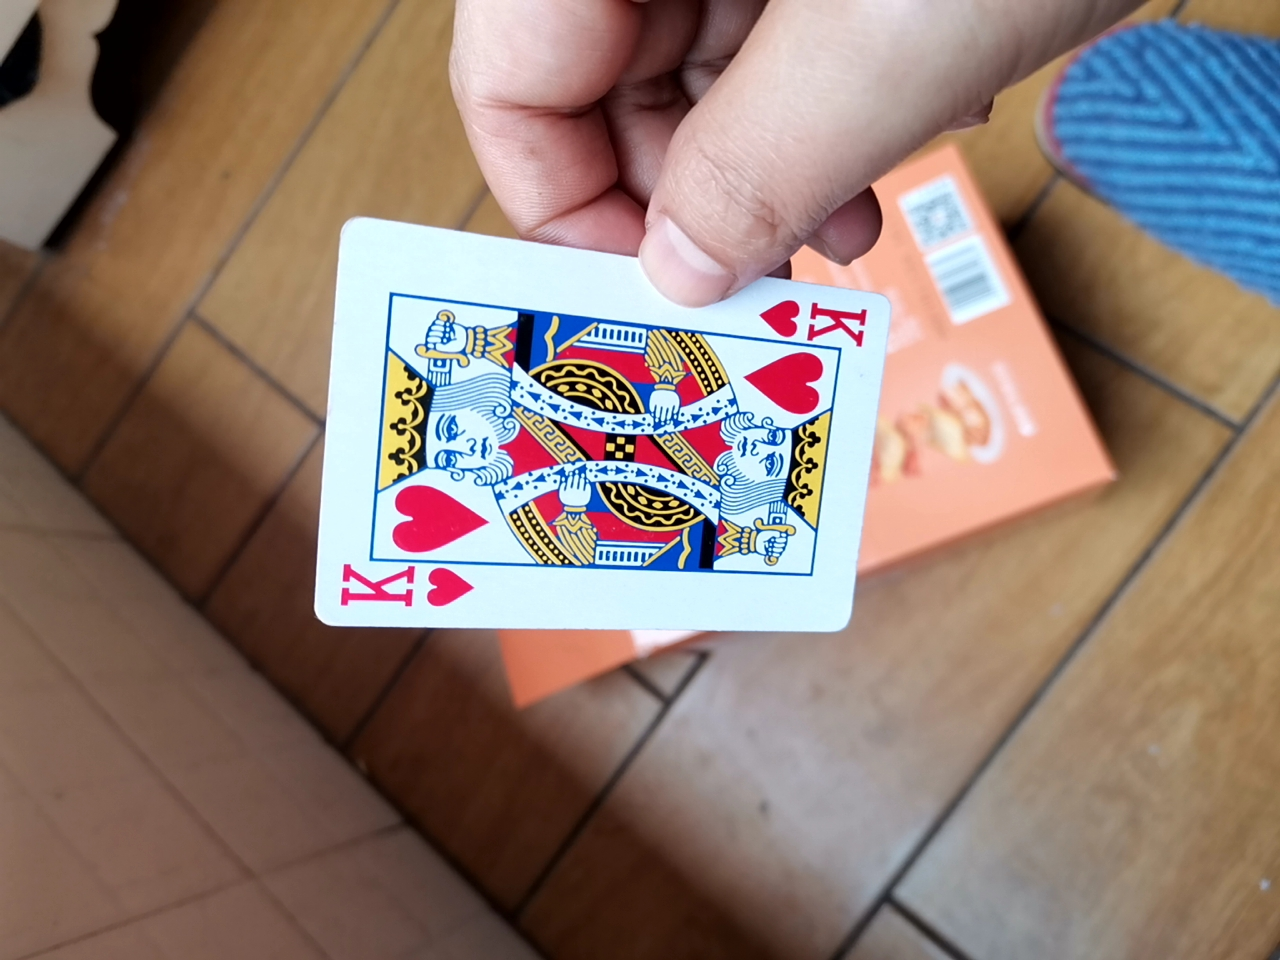hx k: (306, 232, 885, 657)
